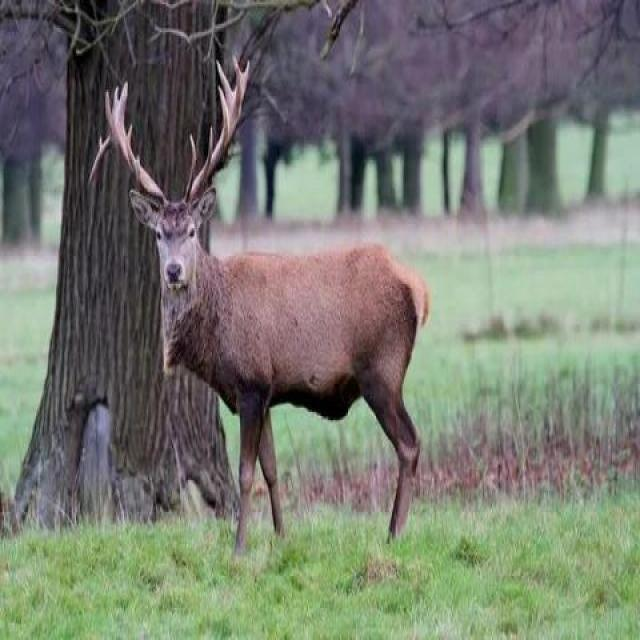deer: (124, 138, 533, 554)
